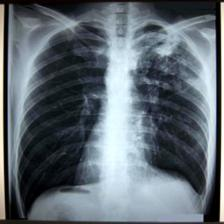tuberculosis: (12, 15, 209, 224)
